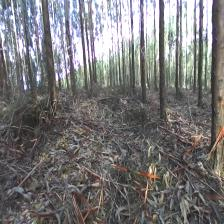trunk: (212, 7, 223, 173), (42, 7, 58, 100), (22, 9, 35, 93), (65, 13, 77, 96), (159, 9, 167, 120), (80, 12, 89, 92), (198, 9, 204, 106), (140, 17, 146, 103), (176, 6, 180, 95), (131, 21, 136, 91), (194, 16, 196, 90)
